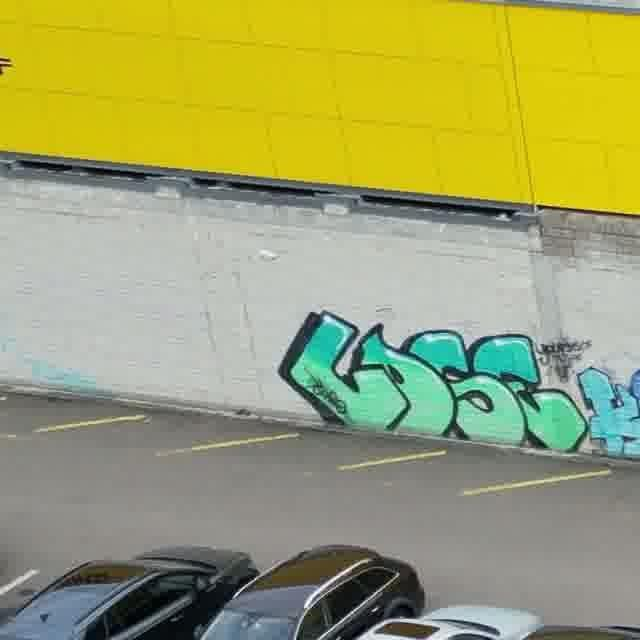Drohne: (257, 247, 285, 261)
